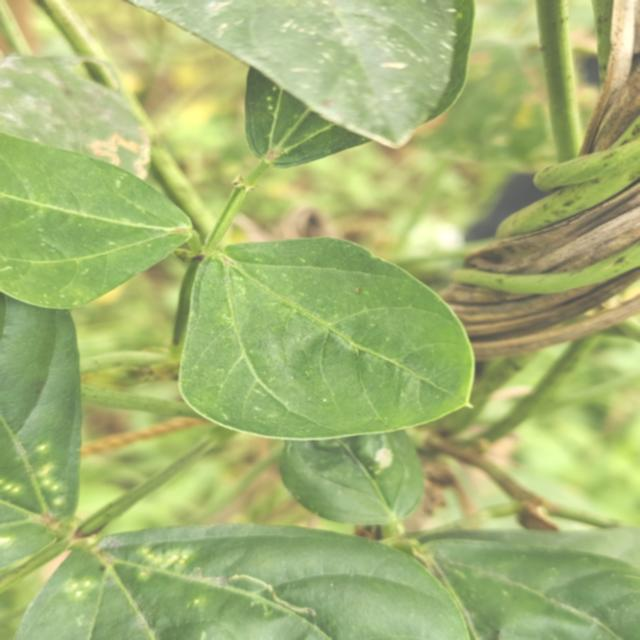leaf-low: (179, 238, 474, 440), (0, 133, 194, 308)
sitaw-aphid-high: (16, 524, 469, 640), (419, 528, 640, 640), (0, 296, 82, 525), (280, 430, 424, 526)
